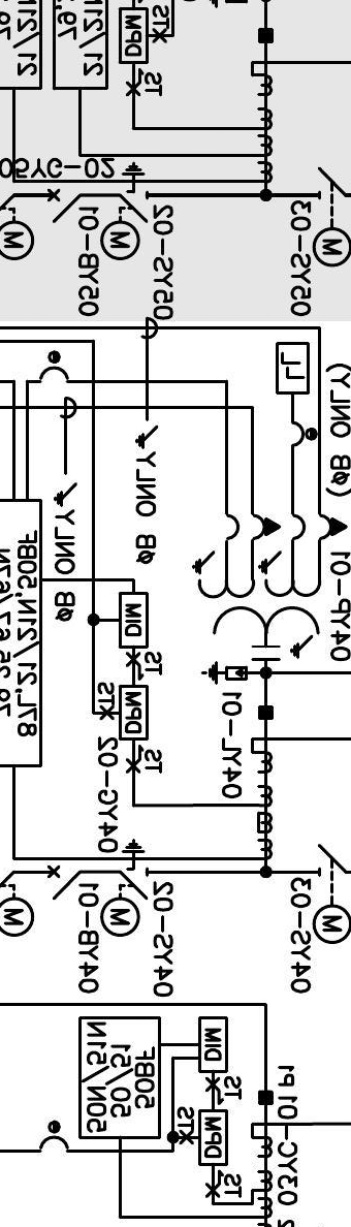115_3ways_ds_w_motor: (99, 838, 149, 938), (99, 161, 149, 261)
115_breaker: (47, 188, 81, 224), (47, 865, 81, 900)
115_cvt_1p: (191, 511, 348, 662)
115_la: (200, 660, 248, 685)
DIM: (198, 1016, 229, 1074), (118, 592, 149, 648)
DPM: (198, 1109, 229, 1167), (118, 684, 149, 741), (118, 7, 149, 64)
LL: (275, 341, 310, 395)
